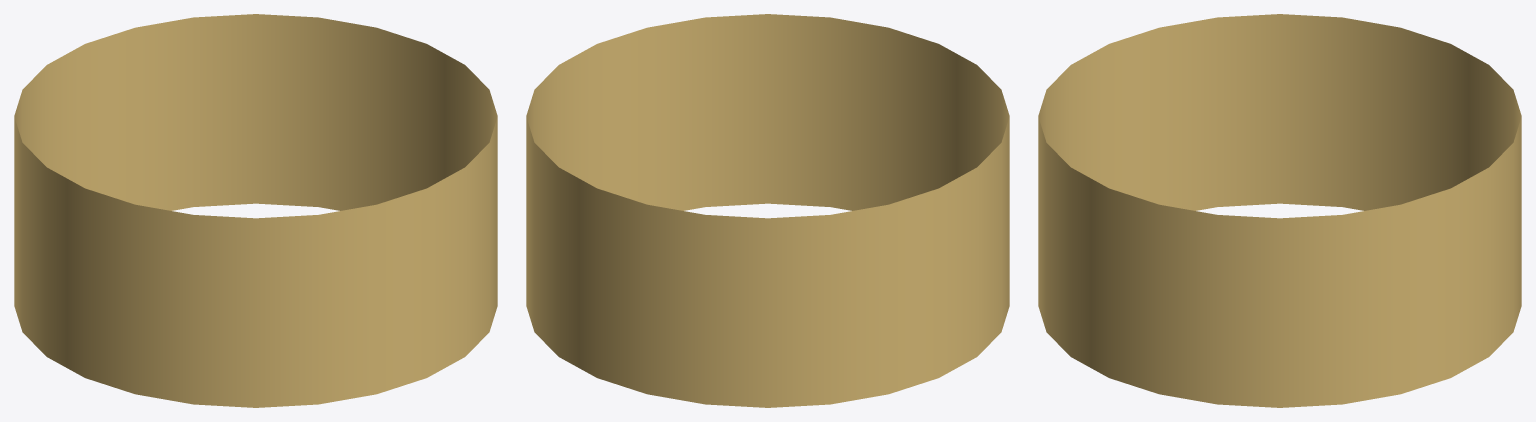
The model's file is original-3.obj.
The picture shows the model from 3 angles, left to right: view 1: azimuth 30°, elevation 25°; view 2: azimuth 150°, elevation 25°; view 3: azimuth 270°, elevation 25°; orthographic projection.
Visible parts, largest first — view 1: #ID291; view 2: #ID291; view 3: #ID291.
Part boxes in pixels (x1,y1,x2,y2): #ID291: (14, 14, 497, 407); #ID291: (526, 14, 1009, 407); #ID291: (1038, 14, 1521, 407).
Bounding box in the file's own units: 0.0192 × 0.00832 × 0.0192.
